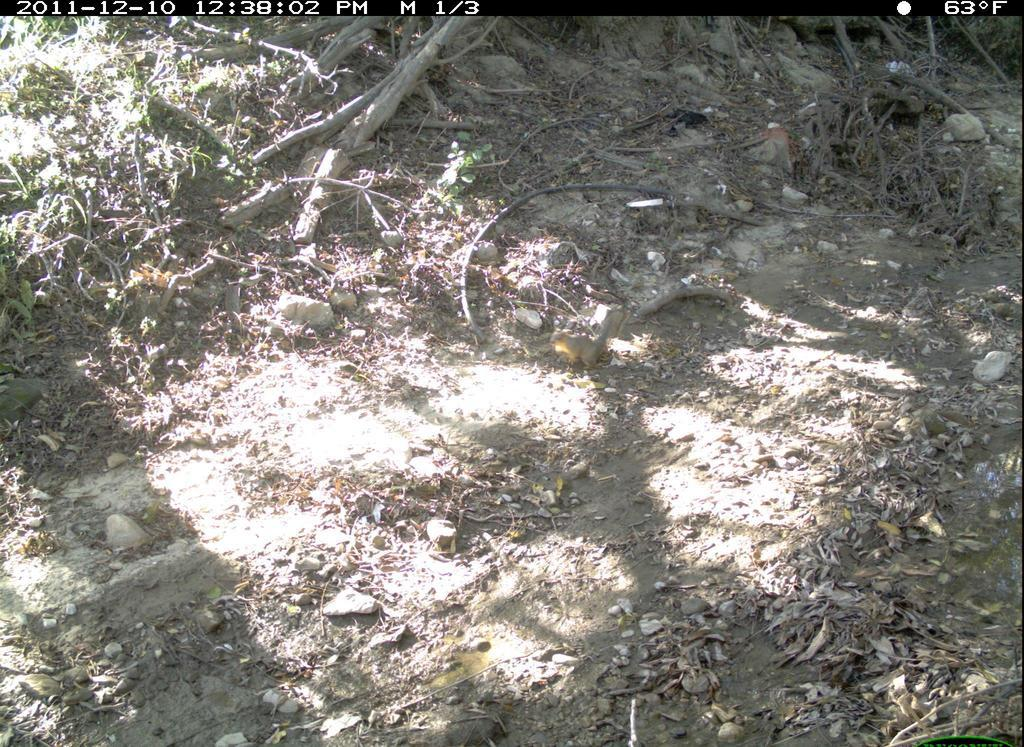squirrel: (546, 308, 634, 372)
